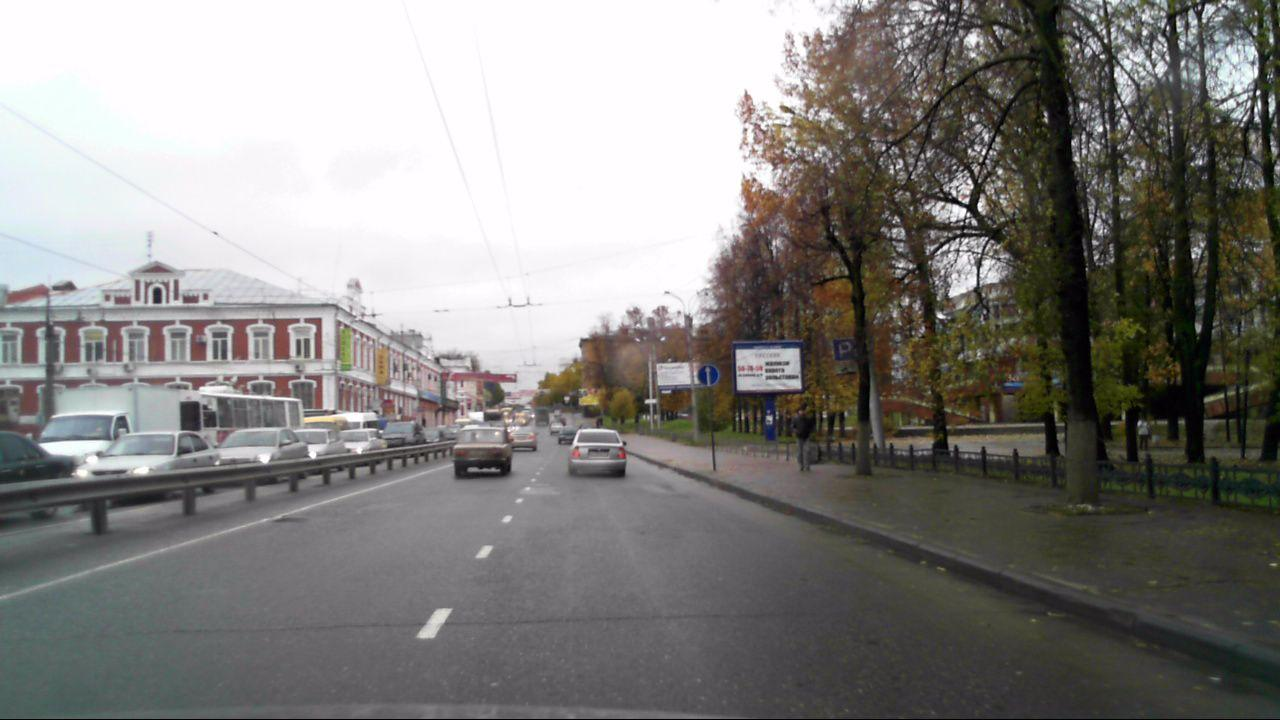obstructed_road_sign: (833, 337, 858, 360)
road_sign: (697, 365, 720, 387)
